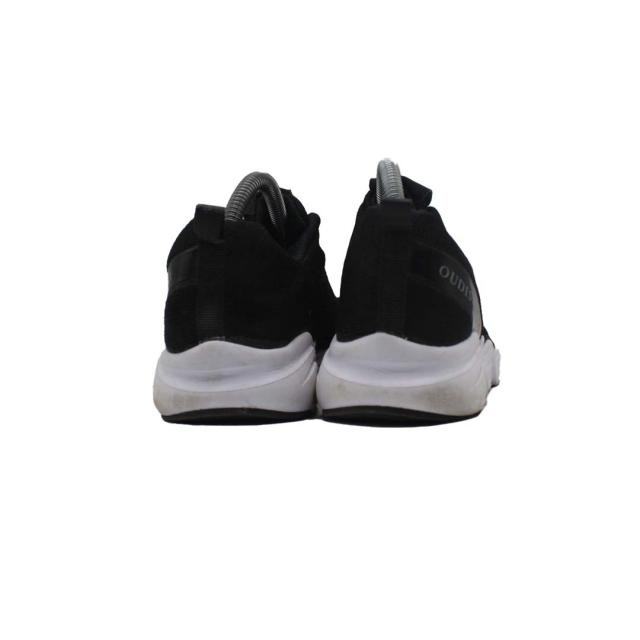heel: (328, 185, 477, 343), (177, 182, 312, 351)
midsole: (152, 341, 499, 424)
